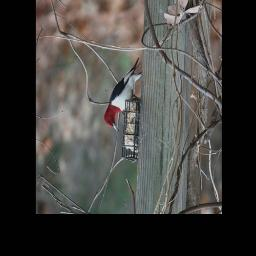Woodpecker: (100, 55, 146, 135)
